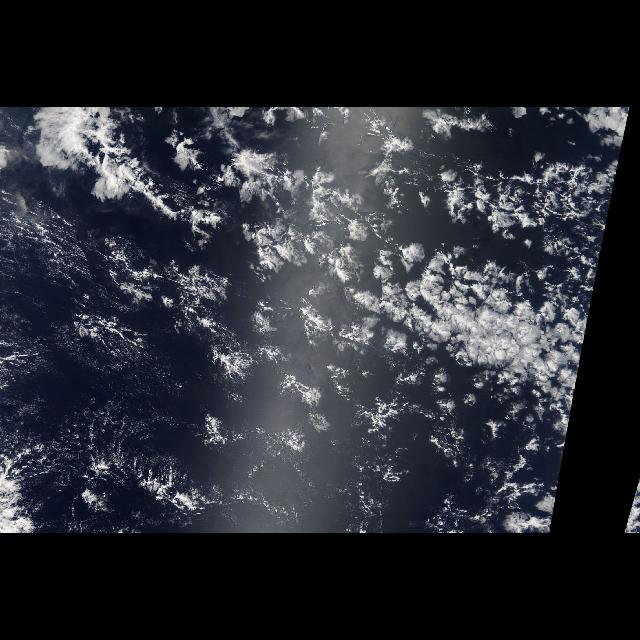Fish: (6, 108, 198, 255)
Flower: (186, 110, 630, 420)
